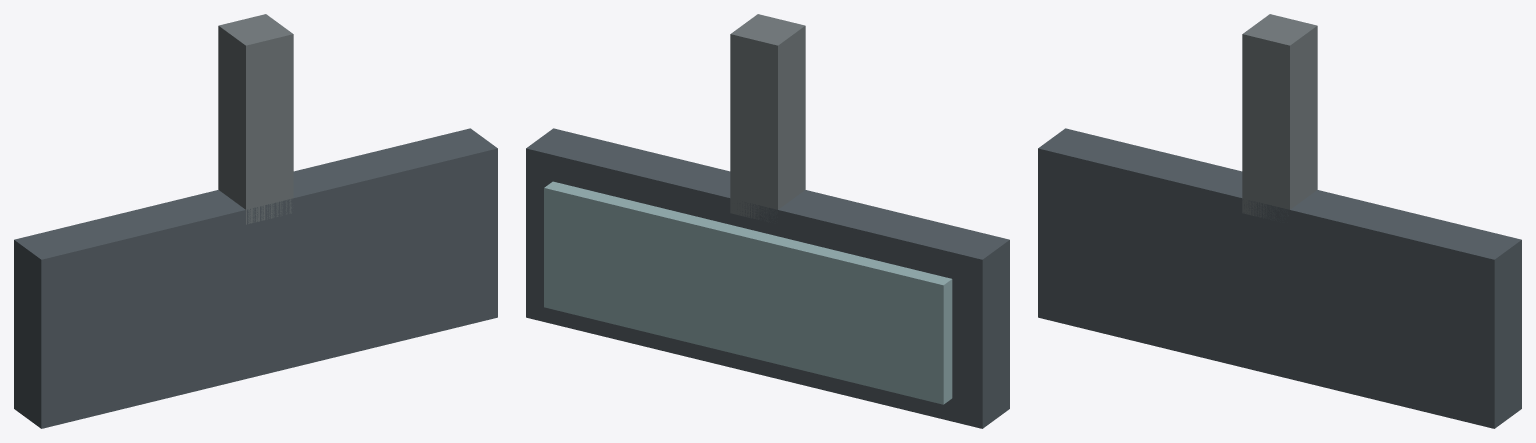
Rendered from rearview_mirror.glb.
The picture shows the model from 3 angles, left to right: view 1: azimuth 30°, elevation 25°; view 2: azimuth 150°, elevation 25°; view 3: azimuth 330°, elevation 25°; orthographic projection.
Parts seen in each view (by area): view 1: body; view 2: body; view 3: body.
Boxes of the visible parts, x1=… form: body: x1=14, y1=14, x2=497, y2=428; body: x1=526, y1=14, x2=1009, y2=428; body: x1=1038, y1=14, x2=1521, y2=428.
Bounding box in the file's own units: 0.24 × 0.1675 × 0.0345.
